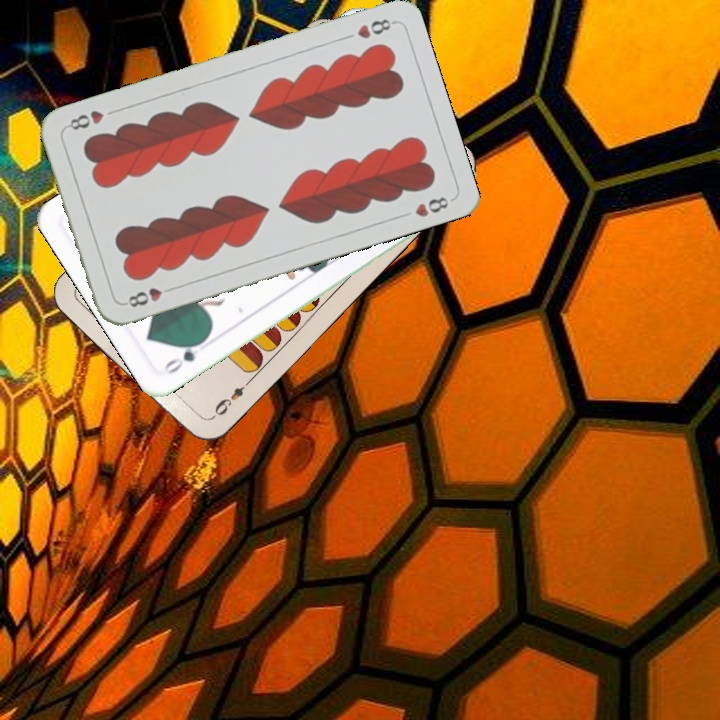E9: (207, 375, 254, 422)
GO: (160, 334, 209, 377)
H8: (120, 282, 178, 310), (352, 14, 397, 42)
